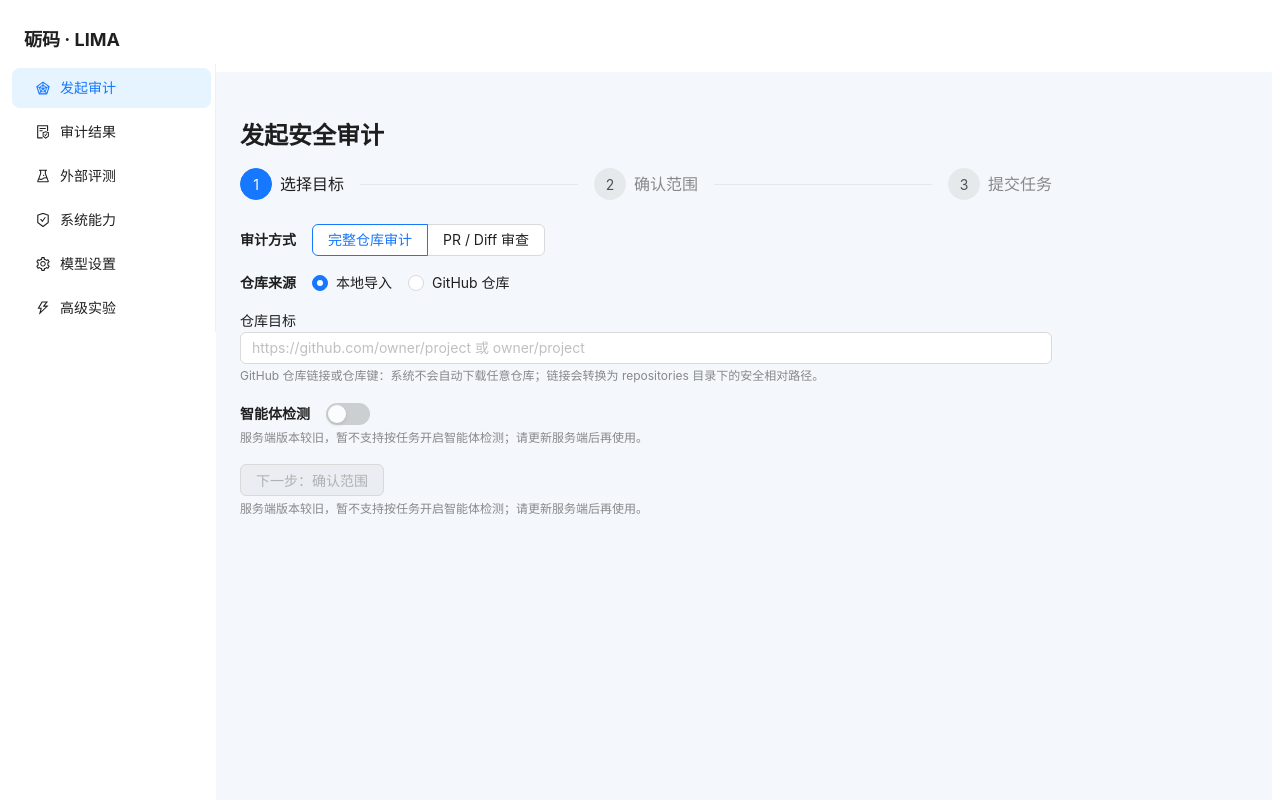
Test: AuditCreatePage agent detection switch (#245) › pauses repository submission on an old server without the new capability fields
Expected: the 1st text "服务端版本较旧，暂不支持按任务开启智能体检测；请更新服务端后再使用。" is shown, x1=240 y1=430 x2=648 y2=445
Expected: the button "下一步：确认范围" is disabled, x1=240 y1=464 x2=384 y2=496
// PR / Diff 审查不受 capabilities 门禁影响。
Step 1. Click the radio button labelled "PR / Diff 审查" → click(486, 240), box x1=427 y1=224 x2=545 y2=256
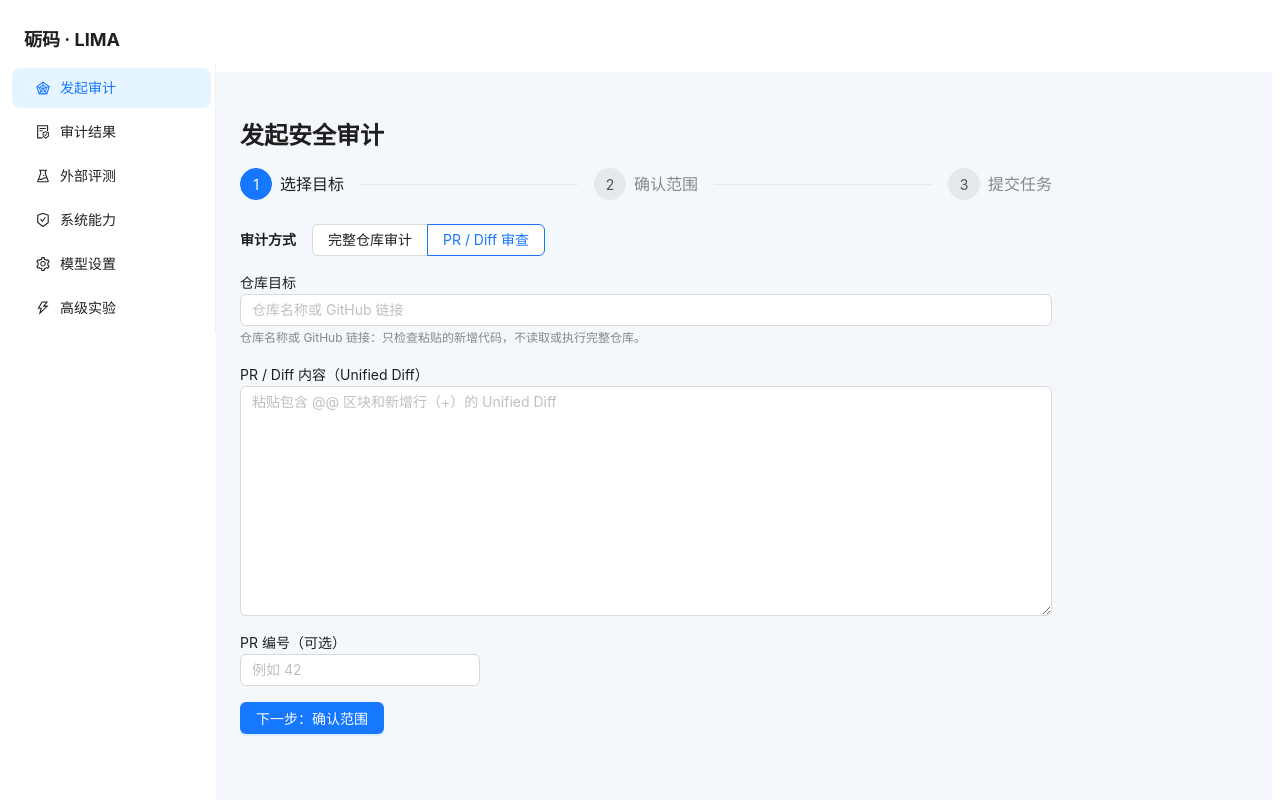
Expected: the button "下一步：确认范围" is enabled, x1=240 y1=702 x2=384 y2=734
